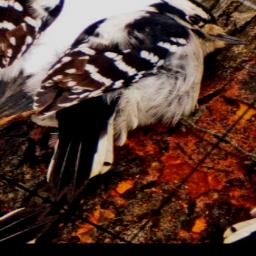Woodpecker: (0, 0, 256, 241)
